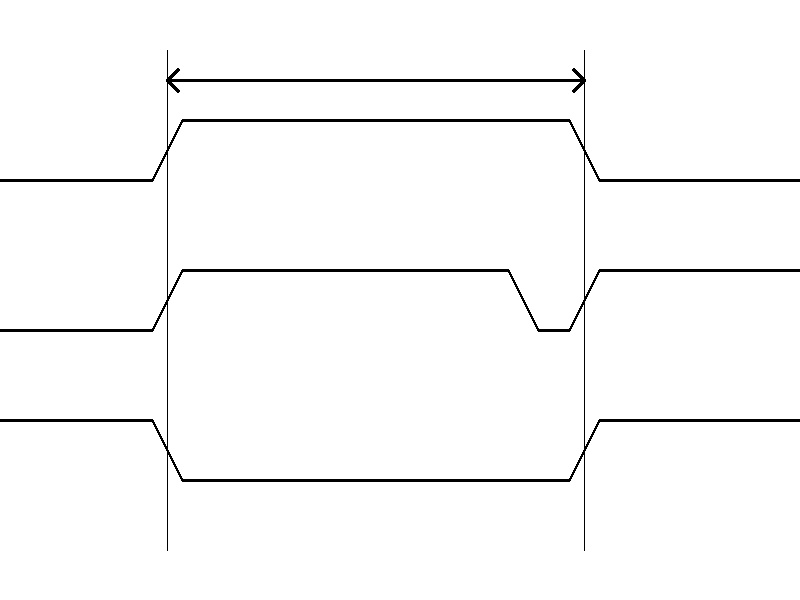double_arrow: (167, 65, 584, 95)
